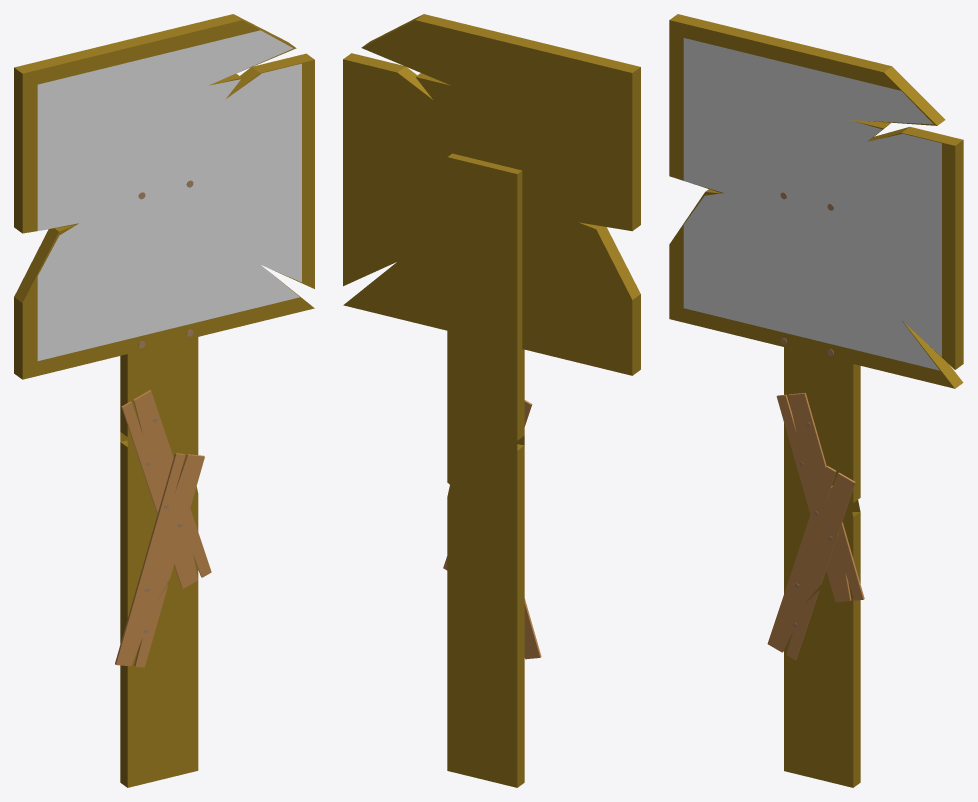
Rendered from letrero.fbx.
3 renders of one model, left to right at view 1: azimuth 30°, elevation 25°; view 2: azimuth 150°, elevation 25°; view 3: azimuth 330°, elevation 25°, orthographic. The views are drawn at different scales.
Parts seen in each view (by area): view 1: Plane, Cube, Cube.001, Plane.002, Plane.001; view 2: Cube.001, Cube, Plane.002; view 3: Plane, Cube, Cube.001, Plane.002, Plane.001.
Boxes of the visible parts, box(x1,y1,x2,y2) form: Plane: box(37, 30, 301, 360); Cube: box(120, 337, 198, 787); Cube.001: box(14, 14, 314, 379); Plane.002: box(115, 453, 204, 667); Plane.001: box(121, 390, 211, 588); Cube.001: box(343, 14, 640, 375); Cube: box(447, 153, 524, 787); Plane.002: box(524, 598, 541, 659); Plane: box(683, 38, 941, 370); Cube: box(784, 347, 860, 787); Cube.001: box(669, 14, 963, 388); Plane.002: box(767, 466, 855, 660); Plane.001: box(776, 392, 864, 602).
Size of the model in its own units: 200 by 487 by 17.73.
